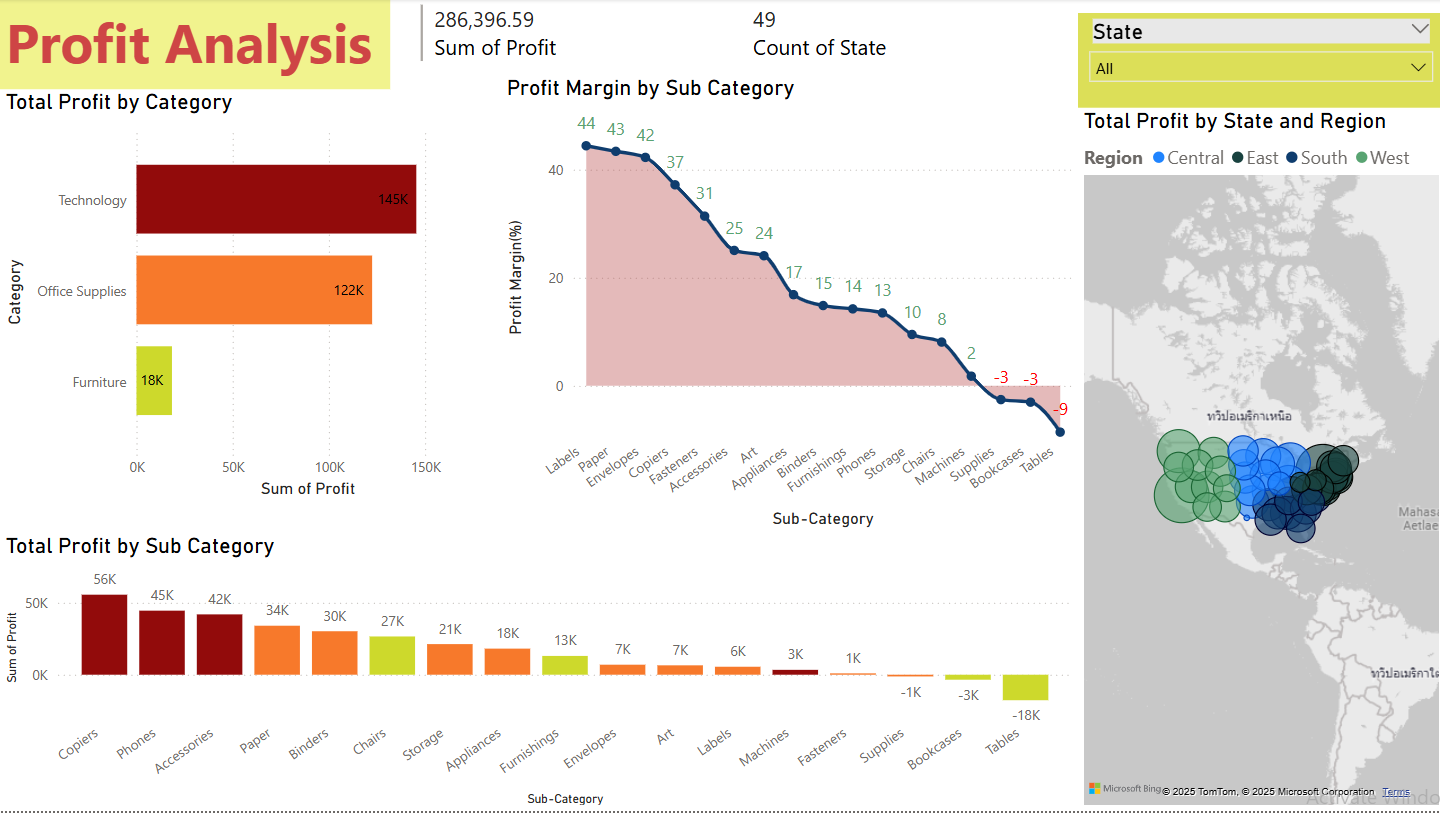

This screenshot's page, from the dashboard's own definition file:
{"tool":"powerbi","page":{"name":"Profit Analysis","canvas":[1280,720],"ordinal":1},"visuals":[{"type":"barChart","title":"Total Profit by Category","fields":{"Category":["DATASuperstore1.Category"],"Y":["Sum(DATASuperstore1.Profit)"]},"box":[0,79.7,444.1,366.7],"z":0},{"type":"textbox","box":[0,0,346.2,79.7],"z":1000},{"type":"multiRowCard","fields":{"Values":["Sum(DATASuperstore1.Profit)","DATASuperstore1.State"]},"box":[367.8,0,587.6,67.2],"z":2000},{"type":"columnChart","title":"Total Profit by Sub Category","fields":{"Category":["DATASuperstore1.Sub-Category"],"Y":["Sum(DATASuperstore1.Profit)"]},"box":[0,473.7,955.4,246],"z":3000},{"type":"map","title":"Total Profit by State and Region","fields":{"Category":["DATASuperstore1.State"],"Series":["DATASuperstore1.Region"],"Size":["Sum(DATASuperstore1.Profit)"]},"box":[955.4,96.8,324.6,622.9],"z":4000},{"type":"lineChart","title":"Profit Margin by Sub Category","fields":{"Category":["DATASuperstore1.Sub-Category"],"Y":["DATASuperstore1.Profit Margin(%)"]},"box":[444.1,67.2,511.3,406.5],"z":5000},{"type":"slicer","fields":{"Values":["DATASuperstore1.State"]},"box":[955.4,12.5,324.6,84.3],"z":6000}]}

Visuals, with their boxes in screenshot pixels (x1, y1, x2, y2), scaled from the page's 1280x720 canvas onto the 1440x814 screenshot:
"Total Profit by Category" barChart: x1=0, y1=90, x2=500, y2=505
textbox: x1=0, y1=0, x2=389, y2=90
multiRowCard - Sum(DATASuperstore1.Profit) x DATASuperstore1.State: x1=414, y1=0, x2=1075, y2=76
"Total Profit by Sub Category" columnChart: x1=0, y1=536, x2=1075, y2=813
"Total Profit by State and Region" map: x1=1075, y1=109, x2=1439, y2=813
"Profit Margin by Sub Category" lineChart: x1=500, y1=76, x2=1075, y2=536
slicer - DATASuperstore1.State: x1=1075, y1=14, x2=1439, y2=109
